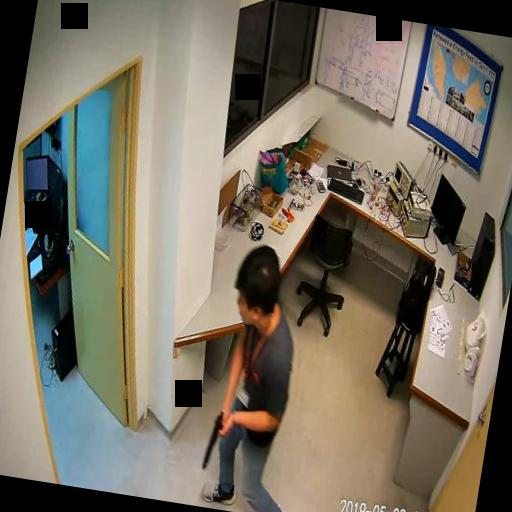Handgun: (199, 406, 225, 470)
